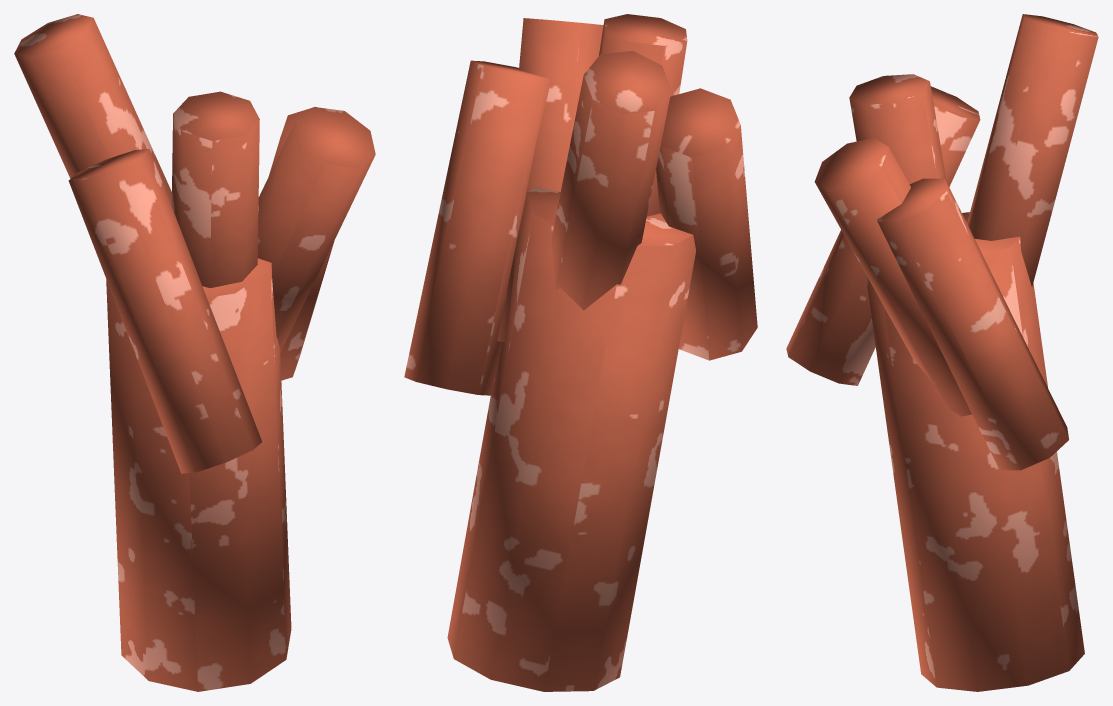
Rendered from coral_b.fbx.
The picture shows the model from 3 angles, left to right: view 1: azimuth 30°, elevation 25°; view 2: azimuth 150°, elevation 25°; view 3: azimuth 270°, elevation 25°; orthographic projection. The views are drawn at different scales.
Parts seen in each view (by area): view 1: coral_b; view 2: coral_b; view 3: coral_b.
Boxes of the visible parts, bbox=[...] form: coral_b: bbox=[14, 14, 375, 691]; coral_b: bbox=[404, 14, 757, 691]; coral_b: bbox=[786, 14, 1098, 691].
Size of the model in its own units: 77.62 by 179 by 83.17.
